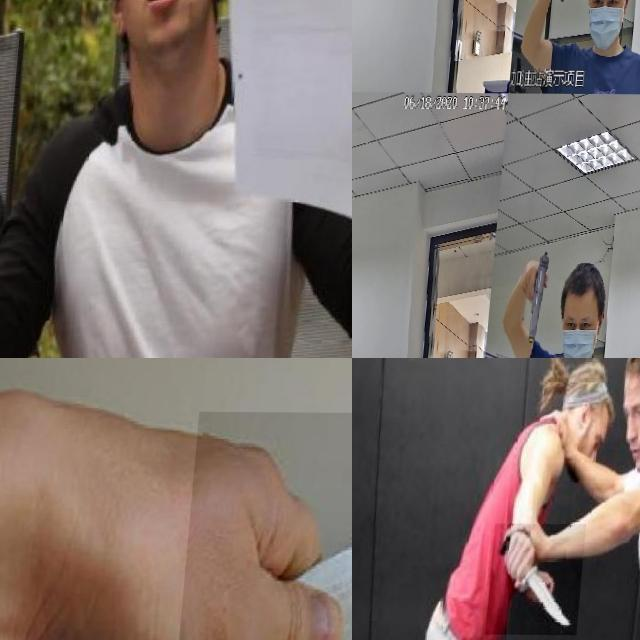-: (168, 411, 352, 640), (0, 0, 47, 266), (492, 523, 590, 635)
gun-knife-thesis - v11 Yolov5 augmented: (526, 244, 560, 342), (552, 0, 578, 36), (352, 255, 362, 344), (352, 0, 367, 34)
